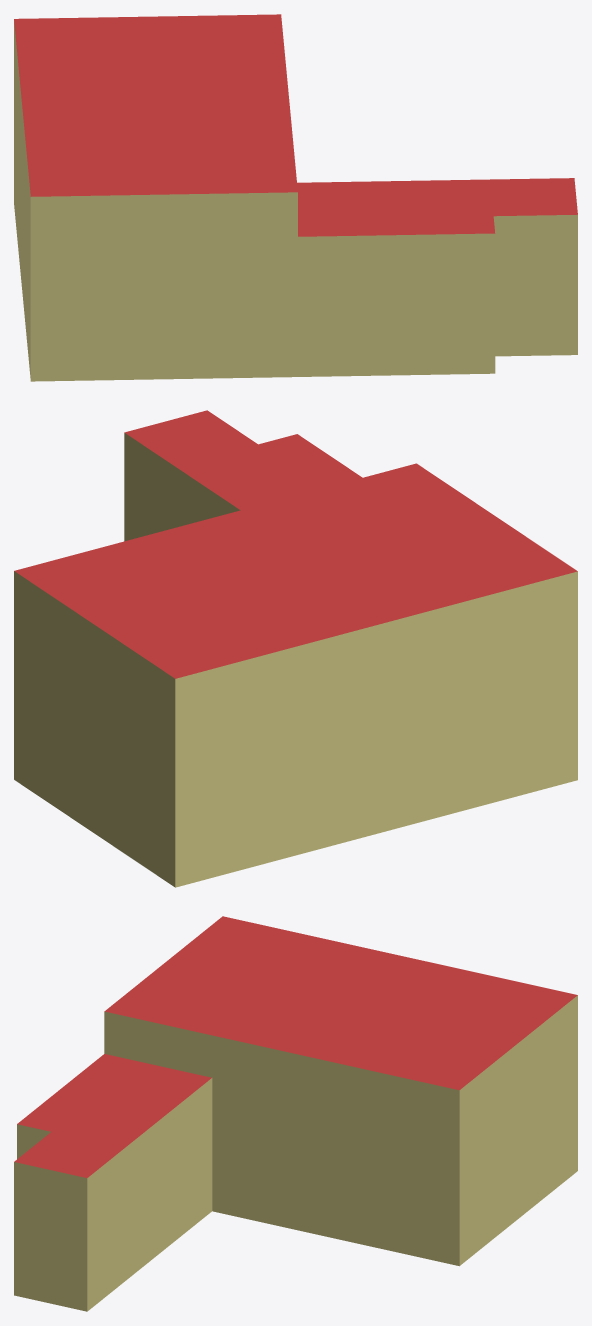
3 renders of one model, top to bottom at view 1: azimuth 30°, elevation 25°; view 2: azimuth 150°, elevation 25°; view 3: azimuth 270°, elevation 25°, orthographic. The views are drawn at different scales.
Parts seen in each view (by area): view 1: group_4, group_3, group_7, group_6; view 2: group_4, group_3, group_6, group_7; view 3: group_4, group_3, group_7, group_6.
Boxes of the visible parts, x1,y1,x2,y2 form: group_4: [14, 21, 297, 381]; group_3: [14, 14, 297, 196]; group_7: [298, 214, 577, 376]; group_6: [297, 178, 577, 236]; group_4: [14, 571, 577, 887]; group_3: [14, 463, 577, 678]; group_6: [124, 410, 362, 510]; group_7: [124, 433, 240, 541]; group_4: [104, 995, 577, 1266]; group_3: [104, 916, 577, 1090]; group_7: [14, 1078, 212, 1311]; group_6: [14, 1054, 211, 1177].
Size of the model in its own units: 20.07 by 21.78 by 7.49.
